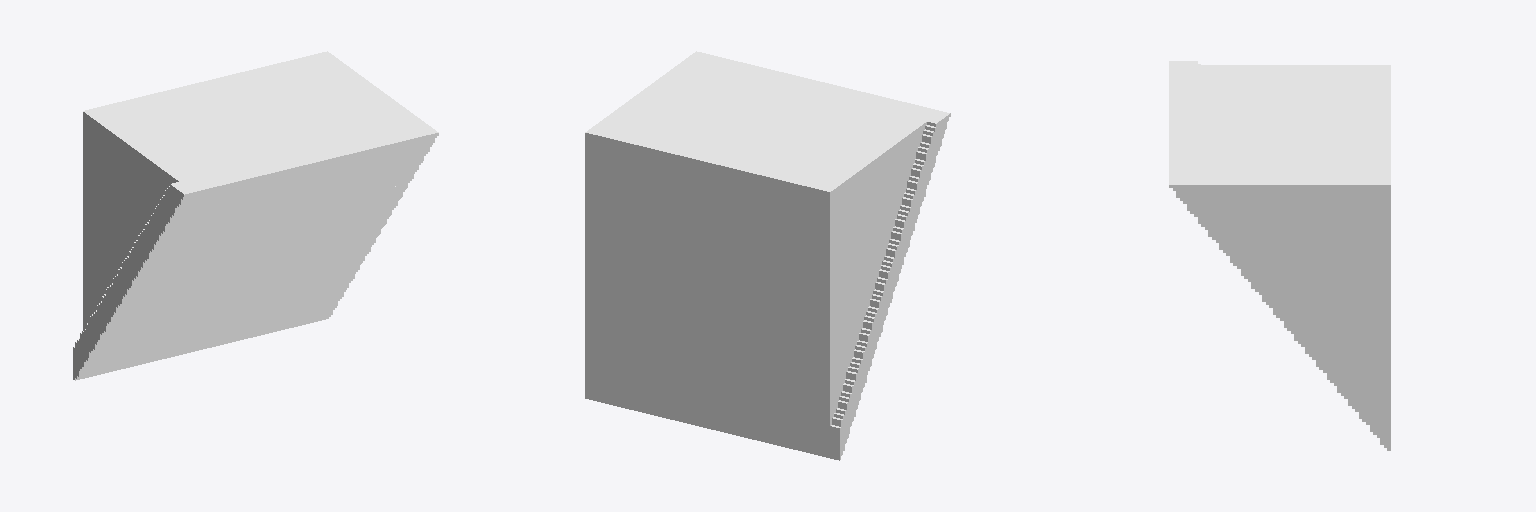
The model's file is Building2Var2-Roof-0.obj.
The picture shows the model from 3 angles: view 1: azimuth 30°, elevation 25°; view 2: azimuth 150°, elevation 25°; view 3: azimuth 270°, elevation 25°; orthographic projection.
Visible parts, largest first — view 1: object 1; view 2: object 1; view 3: object 1.
Boxes of the visible parts, x1,y1,x2,y2 form: object 1: [73, 51, 438, 380]; object 1: [585, 51, 950, 460]; object 1: [1169, 61, 1390, 450].
Size of the model in its own units: 82 by 82 by 62.